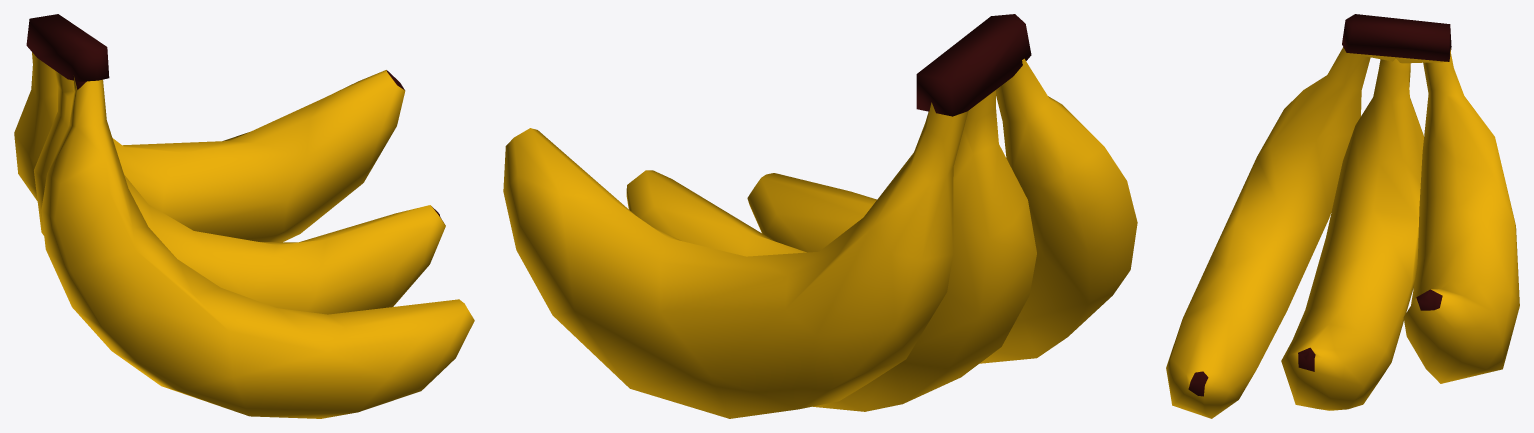
File: Banana1.fbx
The picture shows the model from 3 angles, left to right: view 1: azimuth 30°, elevation 25°; view 2: azimuth 150°, elevation 25°; view 3: azimuth 270°, elevation 25°; orthographic projection. The views are drawn at different scales.
Visible parts, largest first — view 1: banana; view 2: banana; view 3: banana.
Boxes of the visible parts, x1=… form: banana: x1=14, y1=14, x2=474, y2=418; banana: x1=503, y1=14, x2=1137, y2=418; banana: x1=1166, y1=14, x2=1519, y2=418.
Bounding box in the file's own units: 240 × 191 × 197.
